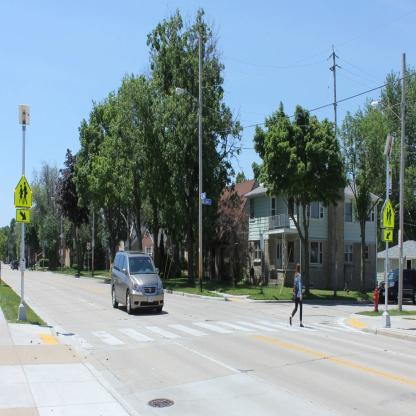Crosswalk: (58, 314, 364, 362)
